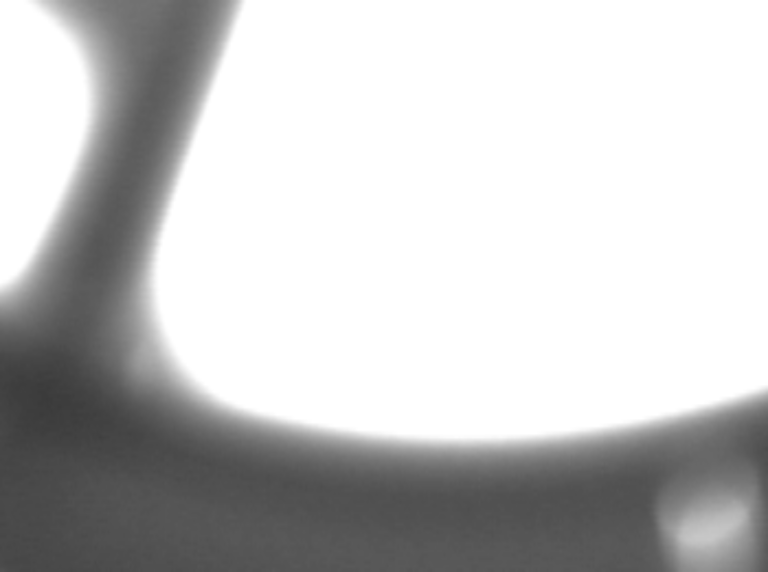defect: (118, 352, 158, 402)
